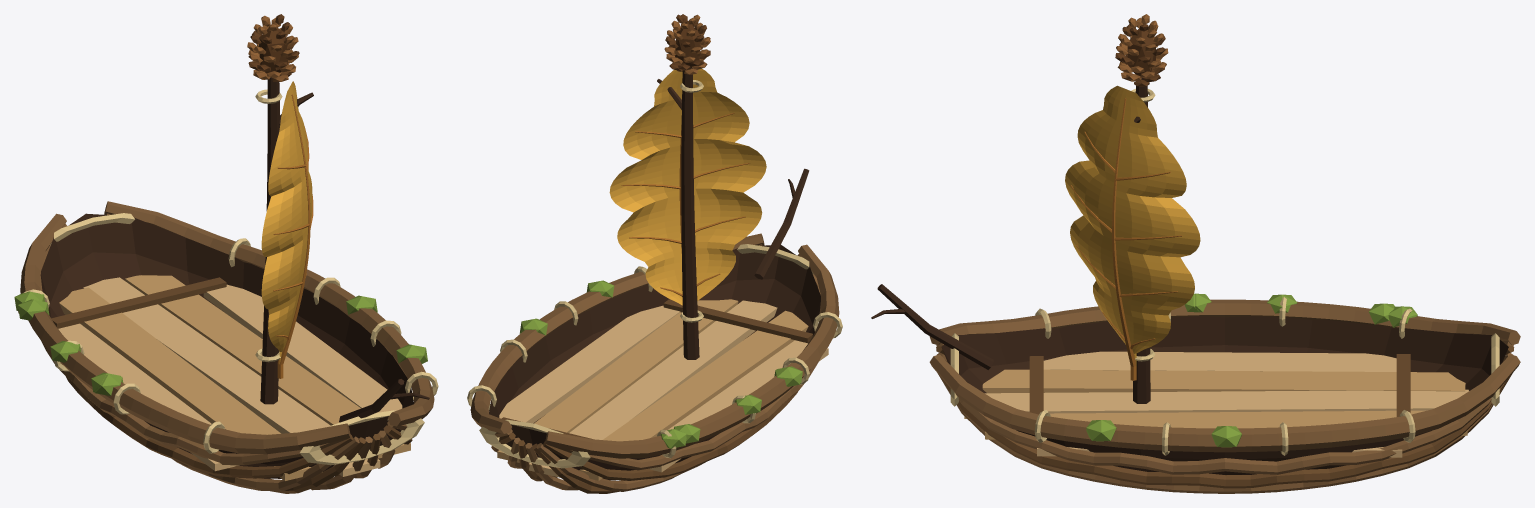
The model's file is twig_boat.glb.
3 views of the same model, side by side, from view 1: azimuth 30°, elevation 25°; view 2: azimuth 150°, elevation 25°; view 3: azimuth 270°, elevation 25° (orthographic). The views are drawn at different scales.
Visible parts, largest first — view 1: twig_boat; view 2: twig_boat; view 3: twig_boat.
Part boxes in pixels (<box>): twig_boat: <box>14,14,438,493</box>; twig_boat: <box>467,14,842,493</box>; twig_boat: <box>871,14,1520,493</box>.
Size of the model in its own units: 1.74 by 2.55 by 3.27.
